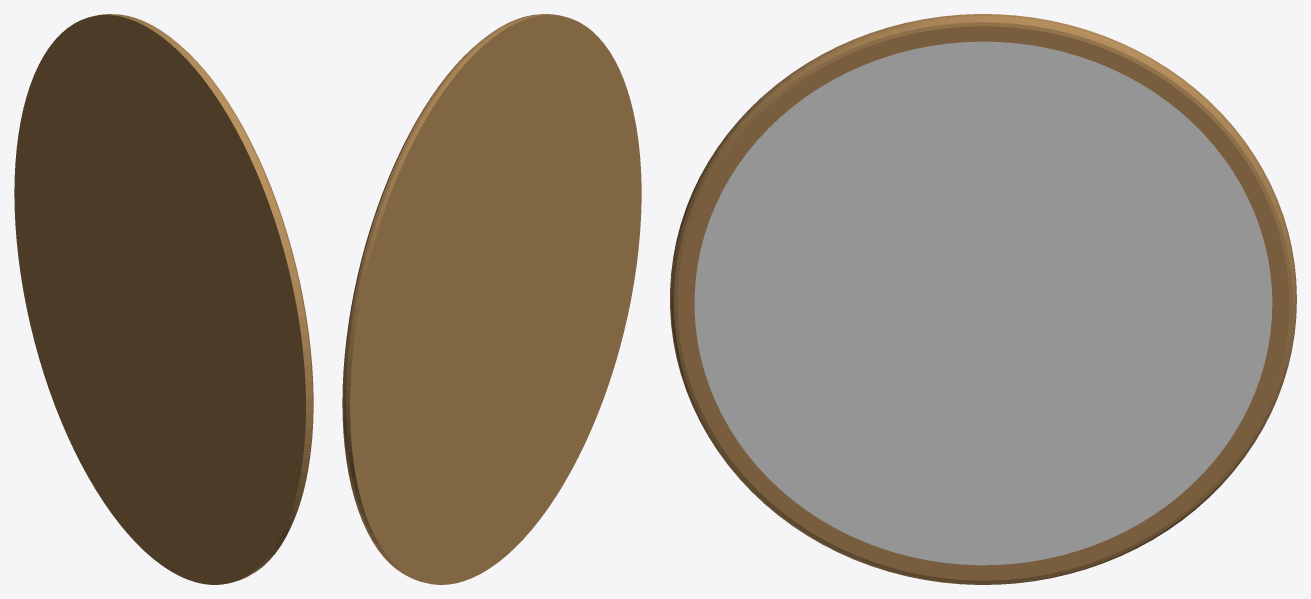
Rendered from mirror.fbx.
The picture shows the model from 3 angles, left to right: view 1: azimuth 30°, elevation 25°; view 2: azimuth 150°, elevation 25°; view 3: azimuth 270°, elevation 25°; orthographic projection. The views are drawn at different scales.
Visible parts, largest first — view 1: Mirror; view 2: Mirror; view 3: Mirror.
Part boxes in pixels (box(x1,y1,x2,y2)): Mirror: box(14, 14, 313, 584); Mirror: box(342, 14, 641, 584); Mirror: box(670, 14, 1296, 584).
Size of the model in its own units: 0.0715 by 3.54 by 3.54.
